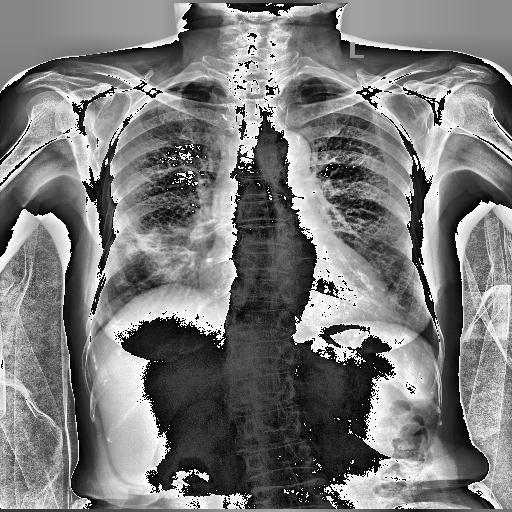0- Aortic enlargement: (258, 130, 310, 178)
13- Pulmonary fibrosis: (84, 227, 200, 328), (112, 212, 214, 294), (112, 211, 199, 286)
3- Cardiomegaly: (198, 252, 392, 322), (198, 258, 391, 320)
6- Infiltration: (112, 211, 199, 286)
7- Lung Opacity: (112, 212, 214, 294)
9- Other lesion: (112, 211, 199, 286)
